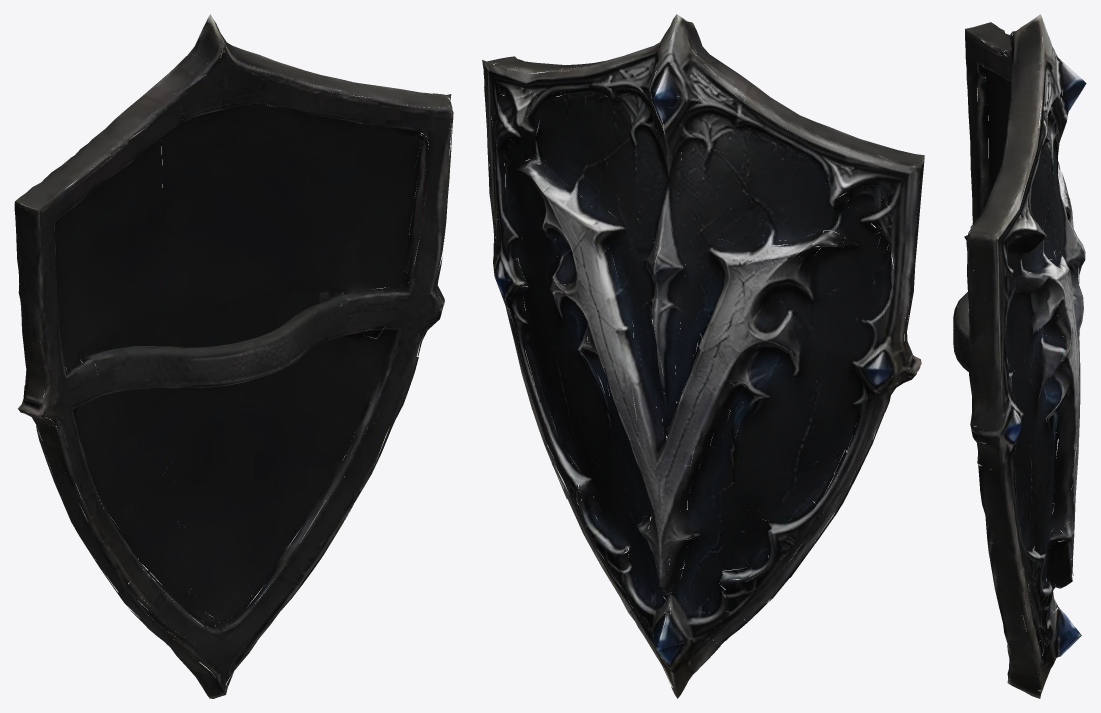
File: kite_v_steel.glb
3 views of the same model, side by side, from view 1: azimuth 30°, elevation 25°; view 2: azimuth 150°, elevation 25°; view 3: azimuth 270°, elevation 25° (orthographic).
Parts seen in each view (by area): view 1: kite_v_steel; view 2: kite_v_steel; view 3: kite_v_steel.
Part boxes in pixels (<box>): kite_v_steel: <box>14,14,453,698</box>; kite_v_steel: <box>482,14,924,698</box>; kite_v_steel: <box>953,14,1086,698</box>.
Size of the model in its own units: 0.4701 by 0.702 by 0.1237.
1 material, 1 textured.
